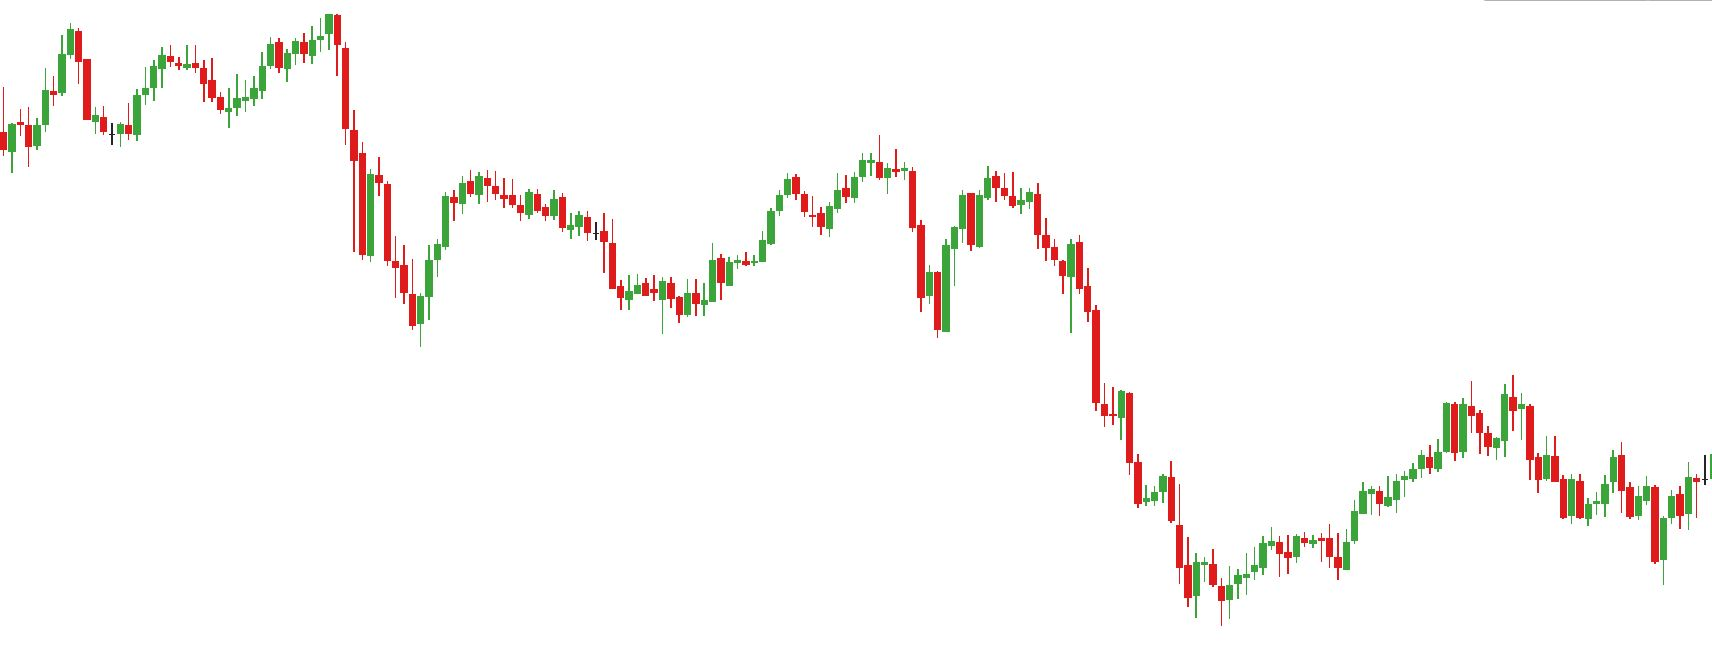sell: (1469, 373, 1519, 446)
